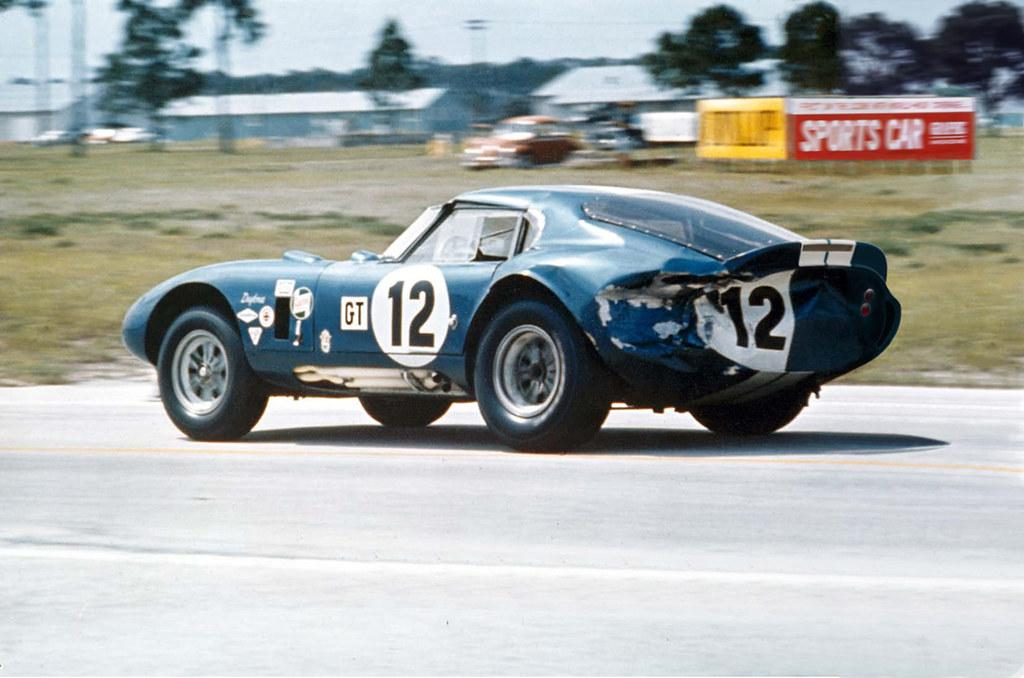boot-dent: (621, 250, 864, 410)
